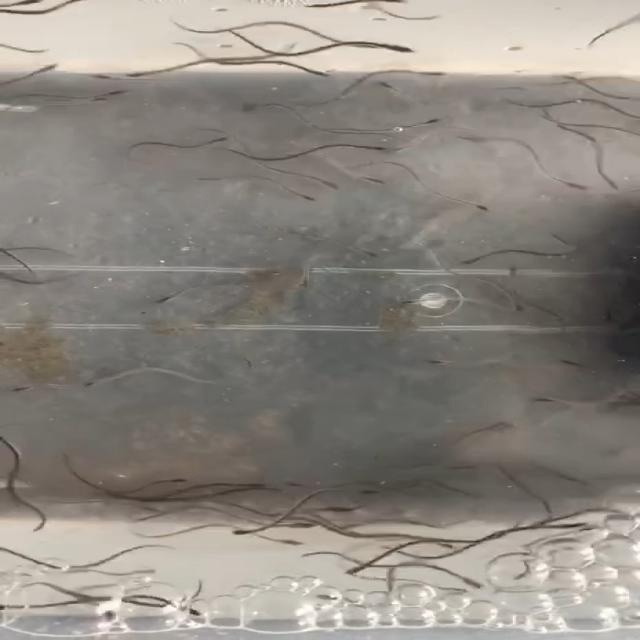active_glass_eel: (87, 67, 142, 84), (364, 37, 419, 53), (474, 418, 520, 436), (168, 603, 212, 620), (22, 62, 61, 81), (313, 175, 349, 195), (291, 186, 325, 207), (463, 200, 507, 216), (90, 85, 136, 100), (369, 75, 405, 94), (293, 65, 333, 82), (224, 524, 264, 541), (562, 355, 604, 371), (287, 272, 324, 290), (345, 172, 389, 187), (528, 391, 575, 405), (440, 460, 486, 474), (552, 176, 594, 191), (436, 582, 473, 599), (406, 66, 454, 79), (458, 576, 496, 592), (413, 115, 456, 129), (222, 477, 268, 490), (78, 374, 115, 390), (450, 254, 499, 266), (424, 354, 458, 371), (73, 94, 117, 107), (395, 295, 430, 311), (285, 520, 325, 534), (358, 485, 398, 499), (156, 288, 192, 303), (357, 142, 395, 156), (596, 306, 621, 327), (11, 383, 45, 398), (312, 592, 354, 604), (545, 72, 583, 85), (200, 132, 230, 148), (505, 296, 531, 314), (280, 479, 310, 494), (326, 502, 363, 514), (94, 604, 116, 624), (268, 536, 302, 548), (356, 248, 385, 262), (428, 540, 461, 552), (558, 520, 590, 532), (10, 0, 57, 8), (154, 478, 190, 488), (0, 430, 18, 447)
